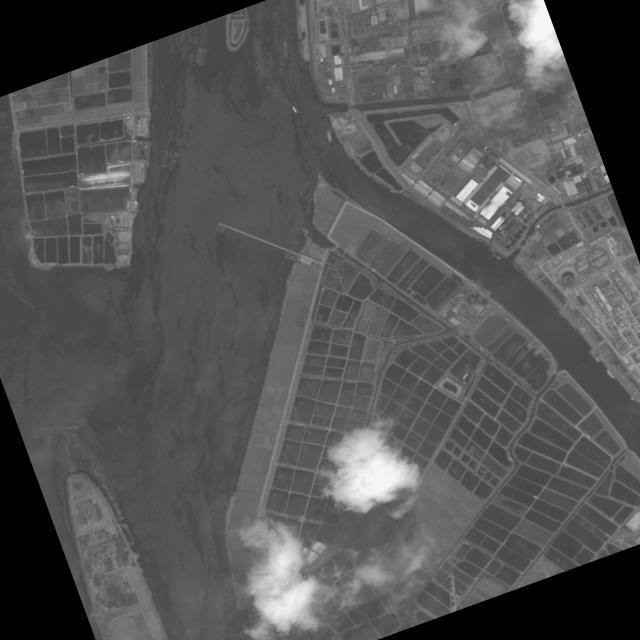ship: (296, 179, 311, 198), (168, 151, 180, 170), (198, 46, 208, 65), (161, 148, 170, 168), (325, 125, 334, 144), (195, 46, 203, 64), (282, 40, 288, 60), (24, 298, 35, 308), (474, 276, 484, 286), (290, 104, 299, 115), (491, 252, 502, 260), (117, 423, 122, 432), (269, 180, 274, 187), (235, 342, 239, 348)
storage-tank: (598, 218, 609, 229), (590, 223, 601, 233)
